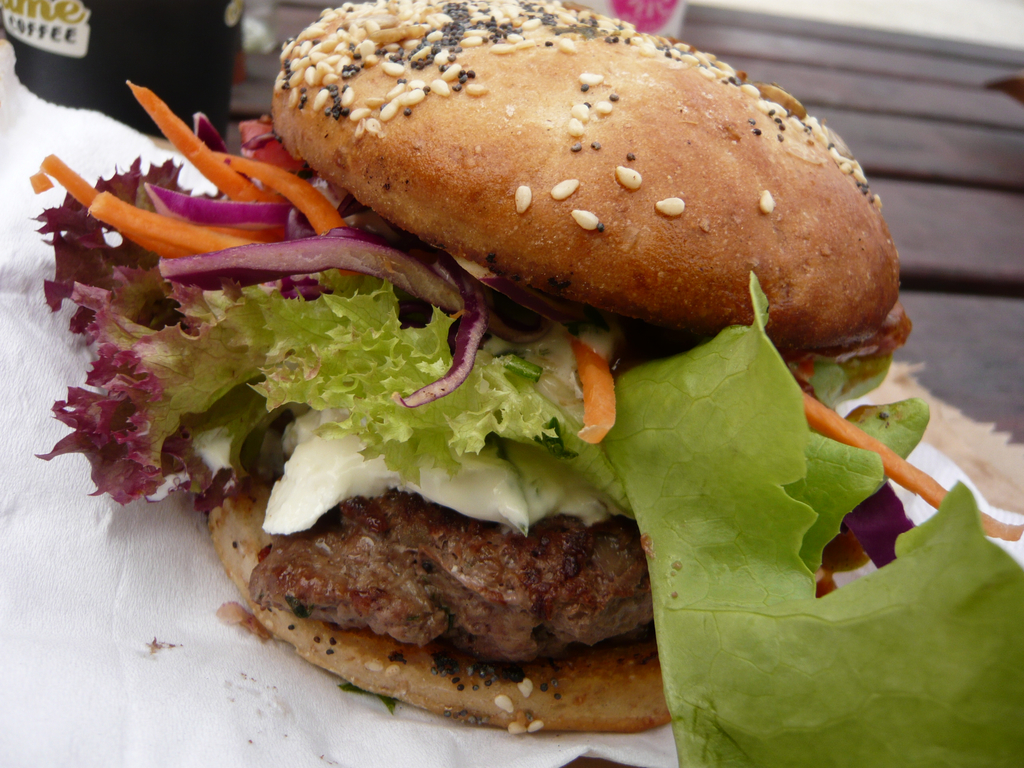Hamburger: (23, 0, 1023, 767), (32, 0, 1023, 767)
